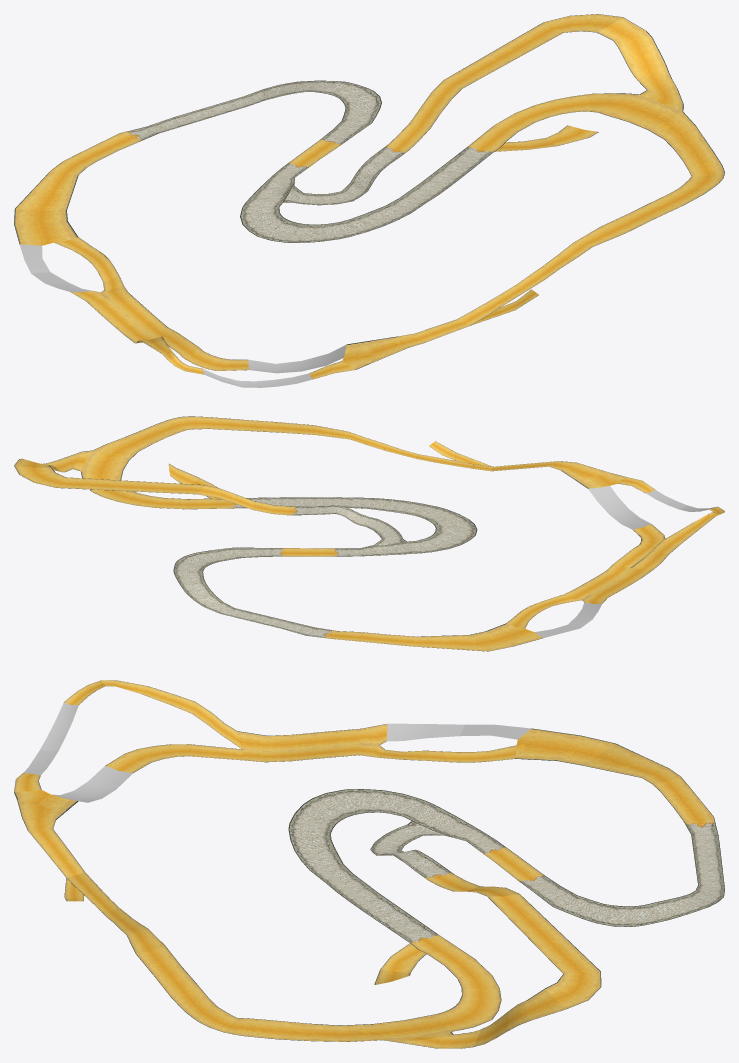
Rendered from track_chinese_coll_road_01.FBX.
3 renders of one model, top to bottom at view 1: azimuth 30°, elevation 25°; view 2: azimuth 150°, elevation 25°; view 3: azimuth 270°, elevation 25°, orthographic. The views are drawn at different scales.
Parts seen in each view (by area): view 1: track_chinese_coll_road_08, track_chinese_coll_road_09, track_chinese_coll_road_46, track_chinese_coll_road_47, track_chinese_coll_road_30, track_chinese_coll_road_28, track_chinese_coll_road_67, track_chinese_coll_road_26, track_chinese_coll_road_43, track_chinese_coll_road_29, track_chinese_coll_road_39, track_chinese_coll_road_58 (+31 smaller); view 2: track_chinese_coll_road_08, track_chinese_coll_road_46, track_chinese_coll_road_67, track_chinese_coll_road_47, track_chinese_coll_road_09, track_chinese_coll_road_28, track_chinese_coll_road_43, track_chinese_coll_road_11, track_chinese_coll_road_58, track_chinese_coll_road_29, track_chinese_coll_road_20, track_chinese_coll_road_10 (+31 smaller); view 3: track_chinese_coll_road_08, track_chinese_coll_road_09, track_chinese_coll_road_47, track_chinese_coll_road_28, track_chinese_coll_road_46, track_chinese_coll_road_43, track_chinese_coll_road_39, track_chinese_coll_road_20, track_chinese_coll_road_29, track_chinese_coll_road_10, track_chinese_coll_road_27, track_chinese_coll_road_11 (+47 smaller).
Boxes of the visible parts, x1=… form: track_chinese_coll_road_08: x1=14, y1=208, x2=77, y2=245; track_chinese_coll_road_09: x1=15, y1=161, x2=87, y2=210; track_chinese_coll_road_46: x1=604, y1=90, x2=683, y2=129; track_chinese_coll_road_47: x1=648, y1=112, x2=713, y2=160; track_chinese_coll_road_30: x1=596, y1=17, x2=656, y2=54; track_chinese_coll_road_28: x1=489, y1=22, x2=562, y2=63; track_chinese_coll_road_67: x1=248, y1=344, x2=346, y2=373; track_chinese_coll_road_26: x1=410, y1=80, x2=461, y2=128; track_chinese_coll_road_43: x1=480, y1=105, x2=548, y2=142; track_chinese_coll_road_29: x1=544, y1=14, x2=622, y2=32; track_chinese_coll_road_39: x1=421, y1=154, x2=484, y2=187; track_chinese_coll_road_58: x1=370, y1=330, x2=436, y2=363; track_chinese_coll_road_08: x1=470, y1=623, x2=542, y2=651; track_chinese_coll_road_46: x1=73, y1=450, x2=128, y2=480; track_chinese_coll_road_67: x1=588, y1=486, x2=650, y2=529; track_chinese_coll_road_47: x1=93, y1=431, x2=166, y2=460; track_chinese_coll_road_09: x1=401, y1=635, x2=487, y2=651; track_chinese_coll_road_28: x1=56, y1=477, x2=141, y2=491; track_chinese_coll_road_43: x1=135, y1=496, x2=211, y2=509; track_chinese_coll_road_11: x1=257, y1=616, x2=337, y2=638; track_chinese_coll_road_58: x1=534, y1=461, x2=610, y2=479; track_chinese_coll_road_29: x1=14, y1=465, x2=65, y2=487; track_chinese_coll_road_20: x1=359, y1=539, x2=421, y2=556; track_chinese_coll_road_10: x1=332, y1=631, x2=402, y2=645; track_chinese_coll_road_08: x1=515, y1=728, x2=615, y2=765; track_chinese_coll_road_09: x1=581, y1=743, x2=680, y2=783; track_chinese_coll_road_47: x1=277, y1=1021, x2=382, y2=1041; track_chinese_coll_road_28: x1=522, y1=929, x2=600, y2=973; track_chinese_coll_road_46: x1=372, y1=1014, x2=453, y2=1042; track_chinese_coll_road_43: x1=427, y1=946, x2=499, y2=989; track_chinese_coll_road_39: x1=350, y1=893, x2=424, y2=934; track_chinese_coll_road_20: x1=407, y1=805, x2=485, y2=840; track_chinese_coll_road_29: x1=545, y1=971, x2=601, y2=1009; track_chinese_coll_road_10: x1=652, y1=776, x2=713, y2=821; track_chinese_coll_road_27: x1=487, y1=894, x2=555, y2=931; track_chinese_coll_road_11: x1=684, y1=816, x2=722, y2=865.
Bounding box in the file's own units: 1446 × 163 × 1132.
